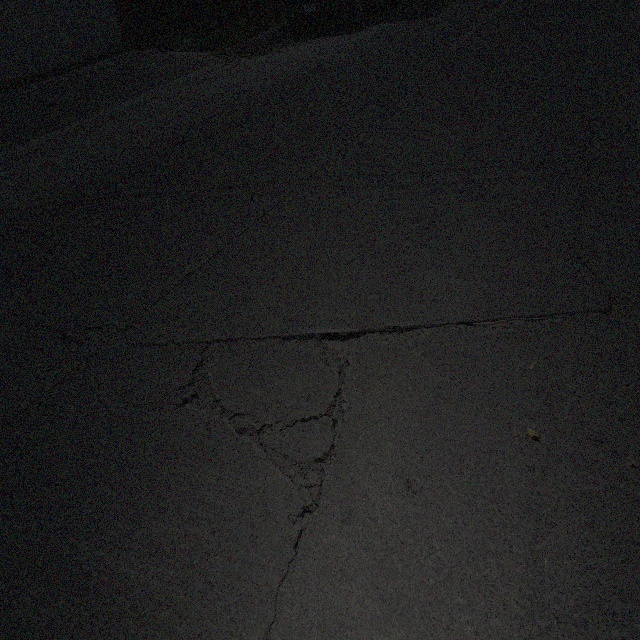pothole: (276, 328, 365, 400), (180, 336, 232, 434), (68, 320, 133, 352), (326, 383, 344, 432), (315, 440, 335, 482), (294, 506, 312, 542), (605, 291, 629, 314)
